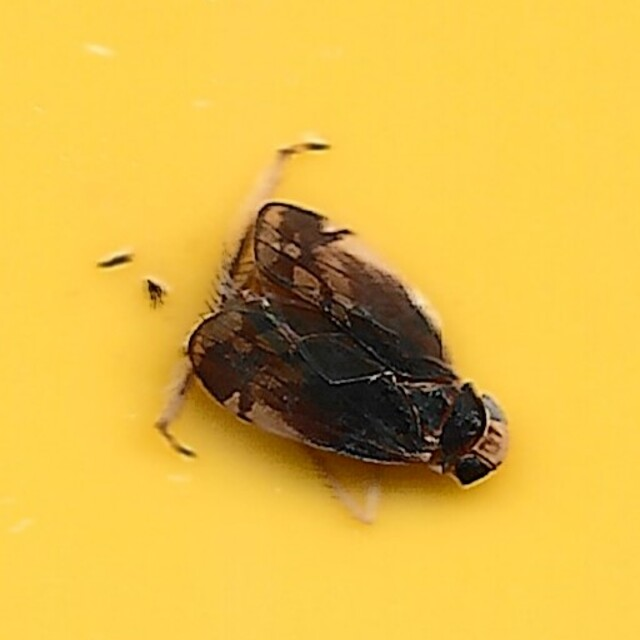Hemiptera: (125, 132, 515, 508)
